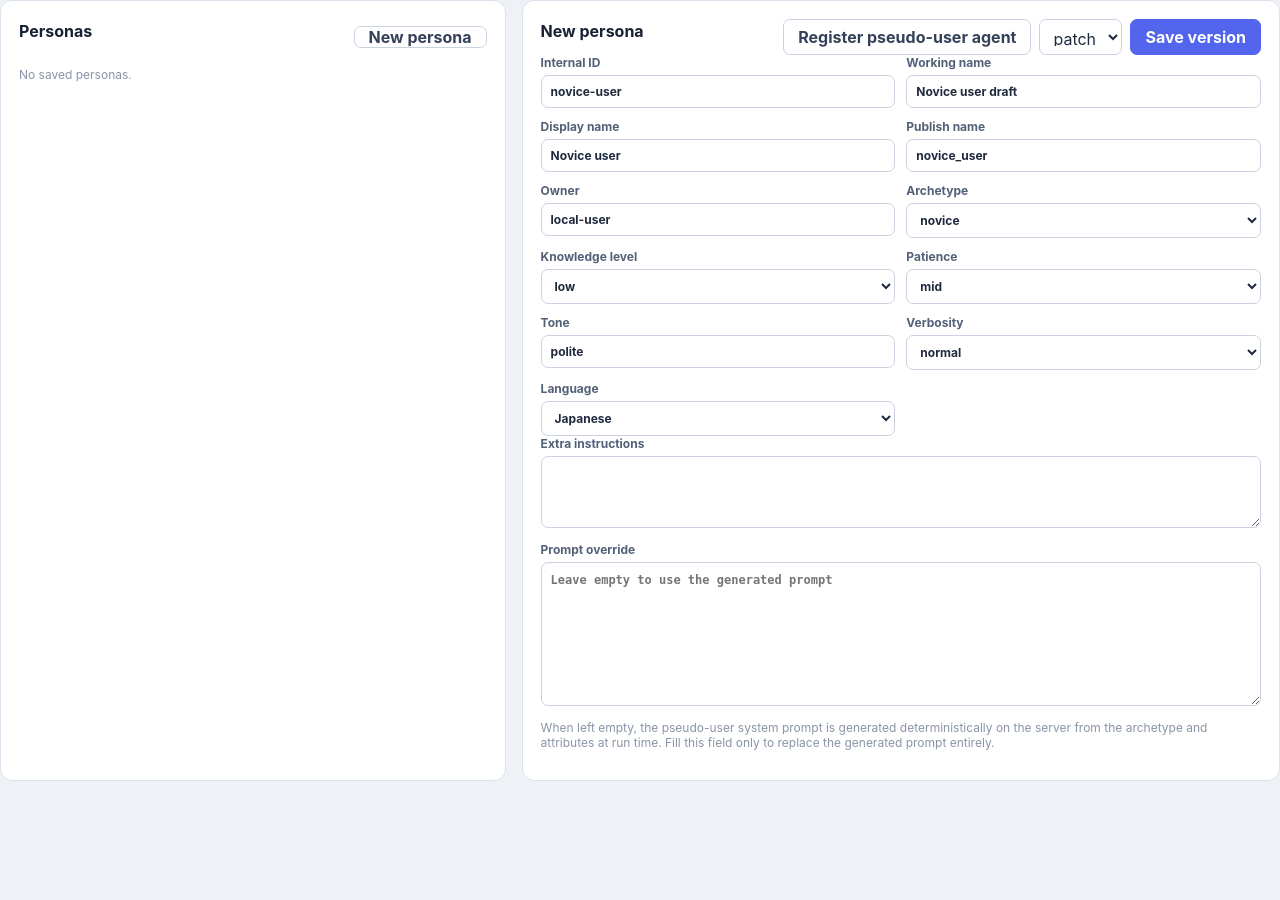
PersonasTab のバージョン更新種別（日本語表示で英語のまま残さない） › [回帰固定] 異常: 保存に失敗したらエラーを表示する（既存動作の確認）
What coordinates should you click on to do the following:
click the button "Save version"
I would click on:
 (1196, 37)
Its box is x1=1130 y1=19 x2=1261 y2=55.
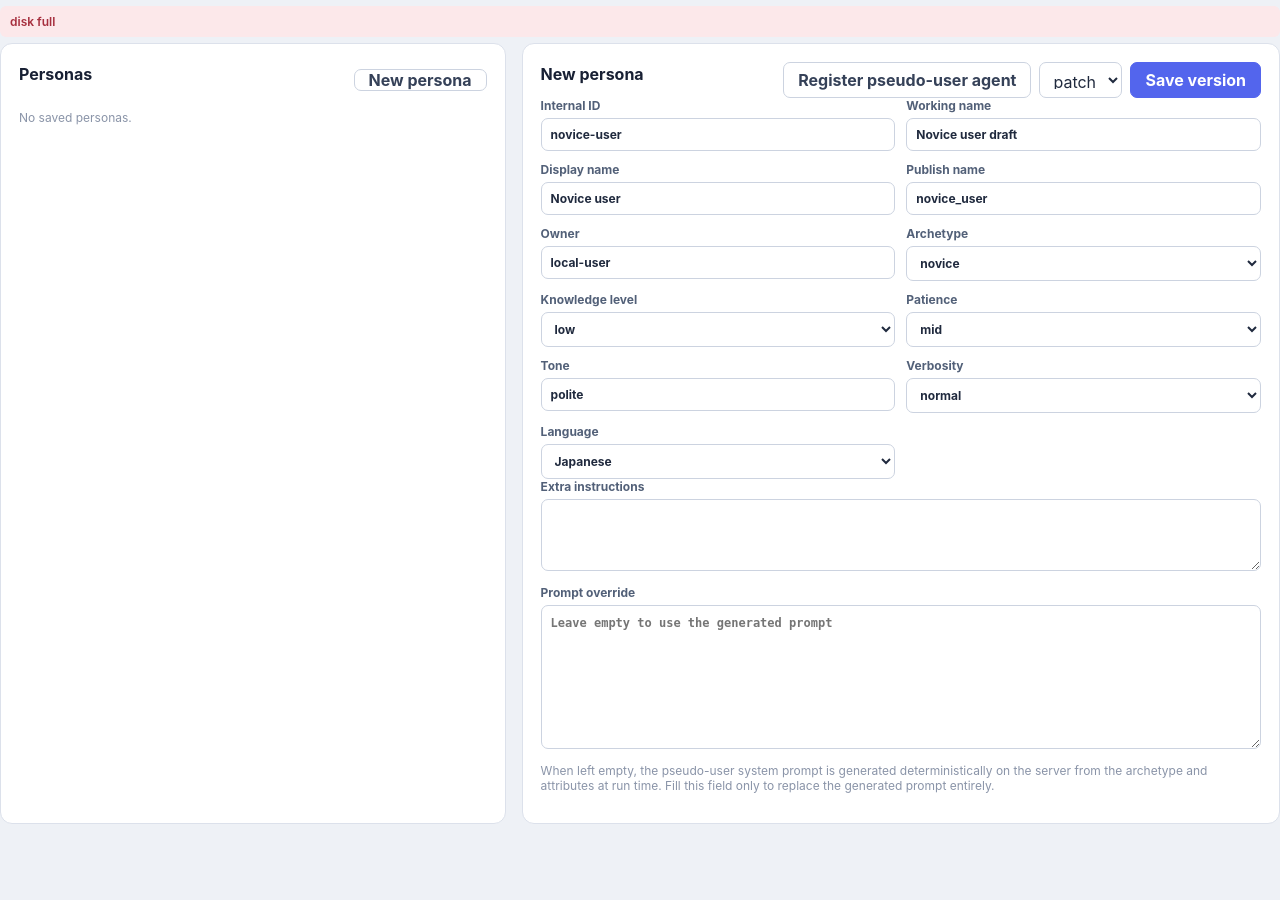
Now the message reads "disk full", box x1=10 y1=14 x2=55 y2=29
